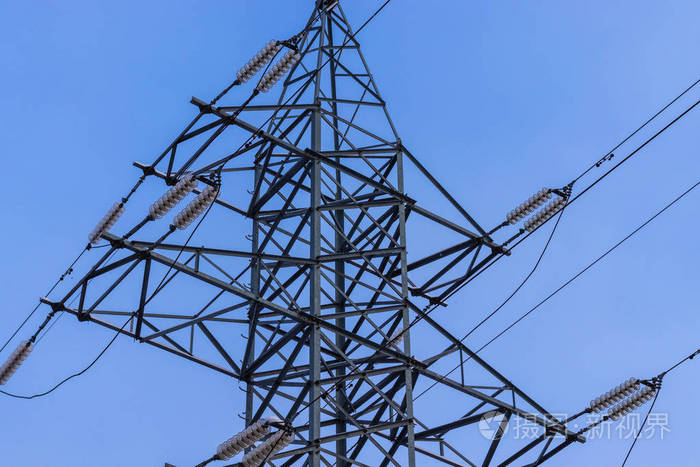insulator: (150, 173, 196, 219), (172, 186, 219, 230), (243, 428, 295, 466), (216, 422, 269, 459), (257, 50, 299, 95), (236, 40, 280, 81), (521, 196, 568, 233), (506, 187, 551, 225), (588, 379, 639, 411), (87, 202, 124, 246), (1, 339, 34, 388), (604, 391, 654, 420)
